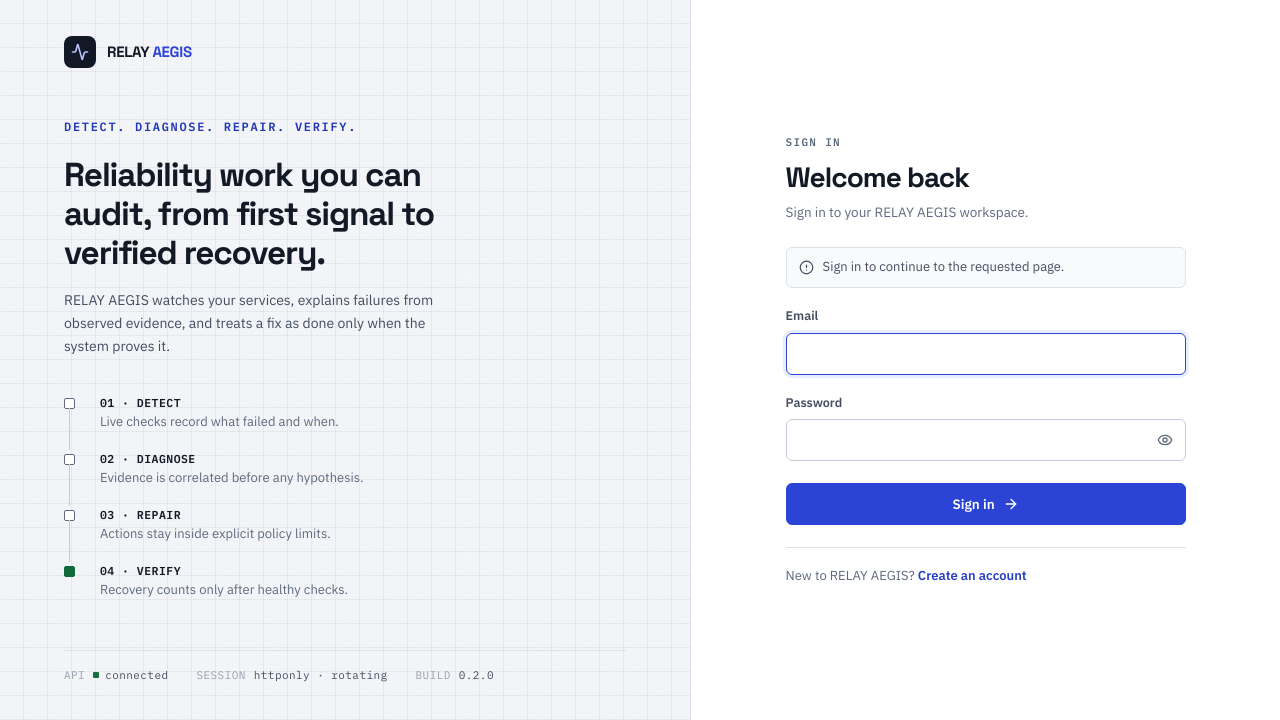
Test: authentication flow › redirects an anonymous visitor to login and returns them to the requested page after signing in
The width and height of the screenshot is (1280, 720).
Expected: the heading "Welcome back" is shown, [786,159,969,195]
Expected: the text "Sign in to continue to the requested page." is shown, [823,258,1064,277]
Type "ada@relay.test" into the field labelled "Email" at (986,354), box [786,333,1186,375]
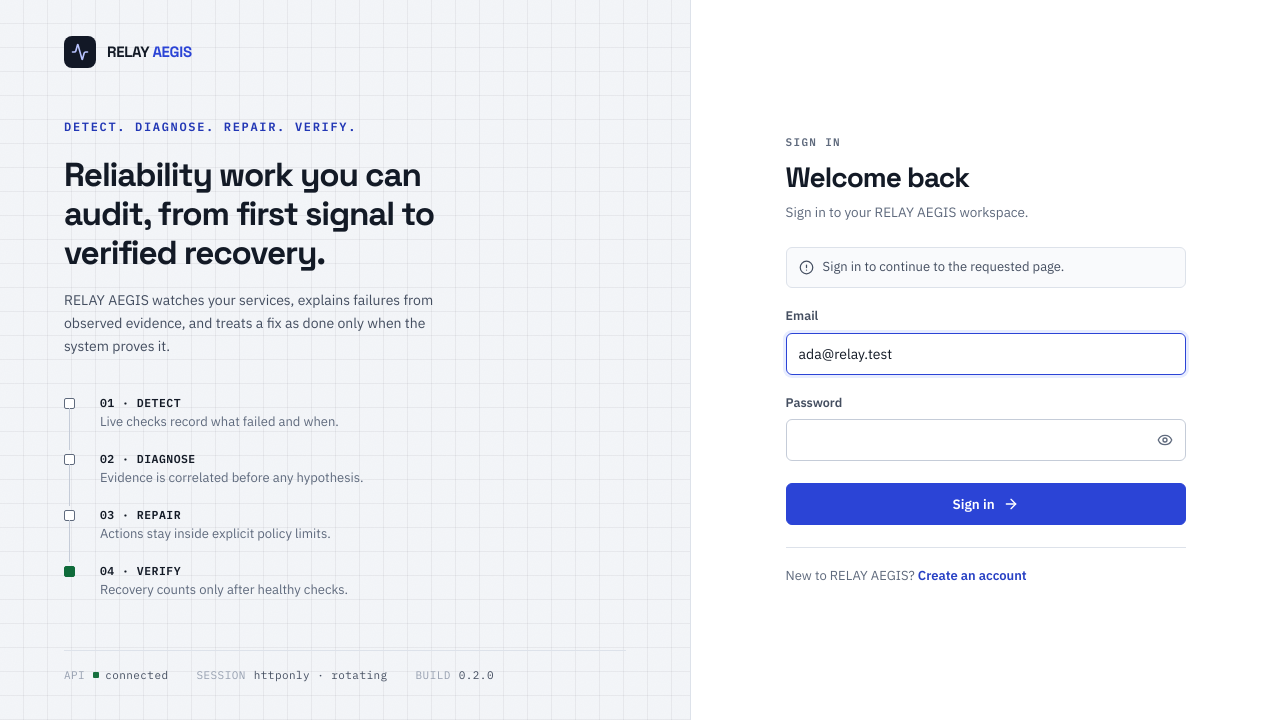
Type "Correct-Horse-42" into the password field labelled "Password" at (986,440), box [786,419,1186,461]
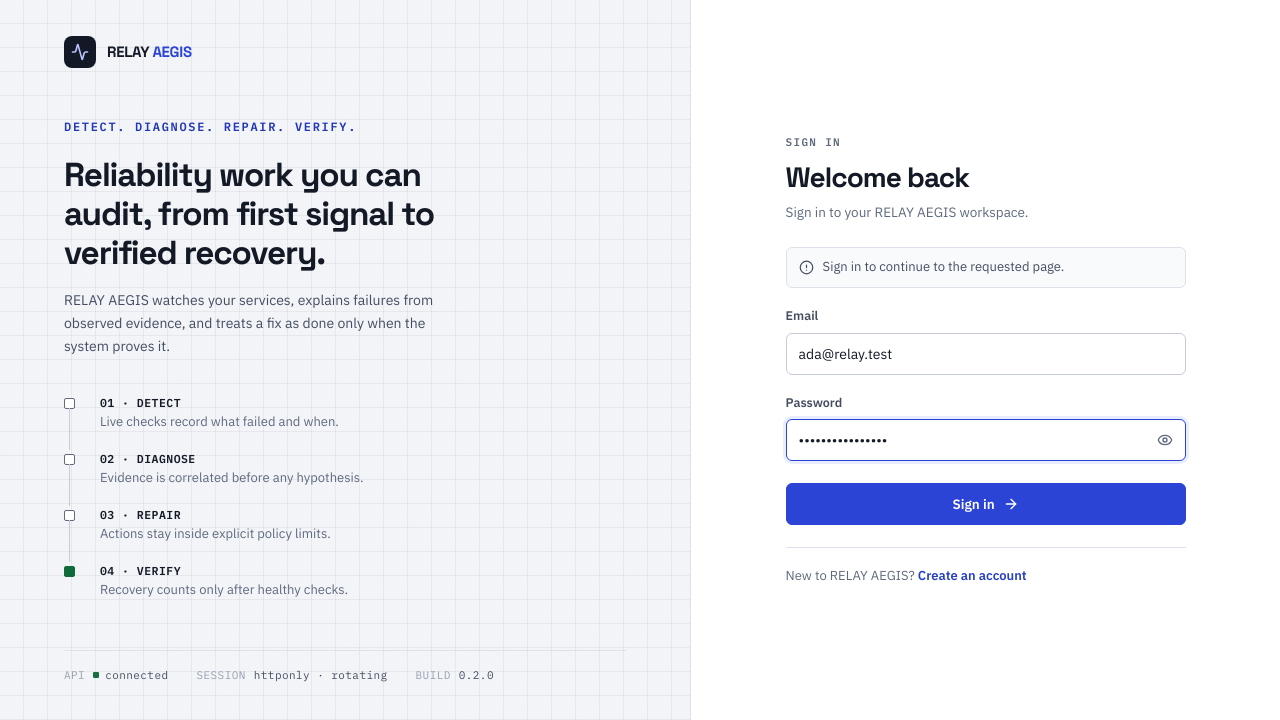
Click the button "Sign in" at (986,504), box [786,483,1186,525]
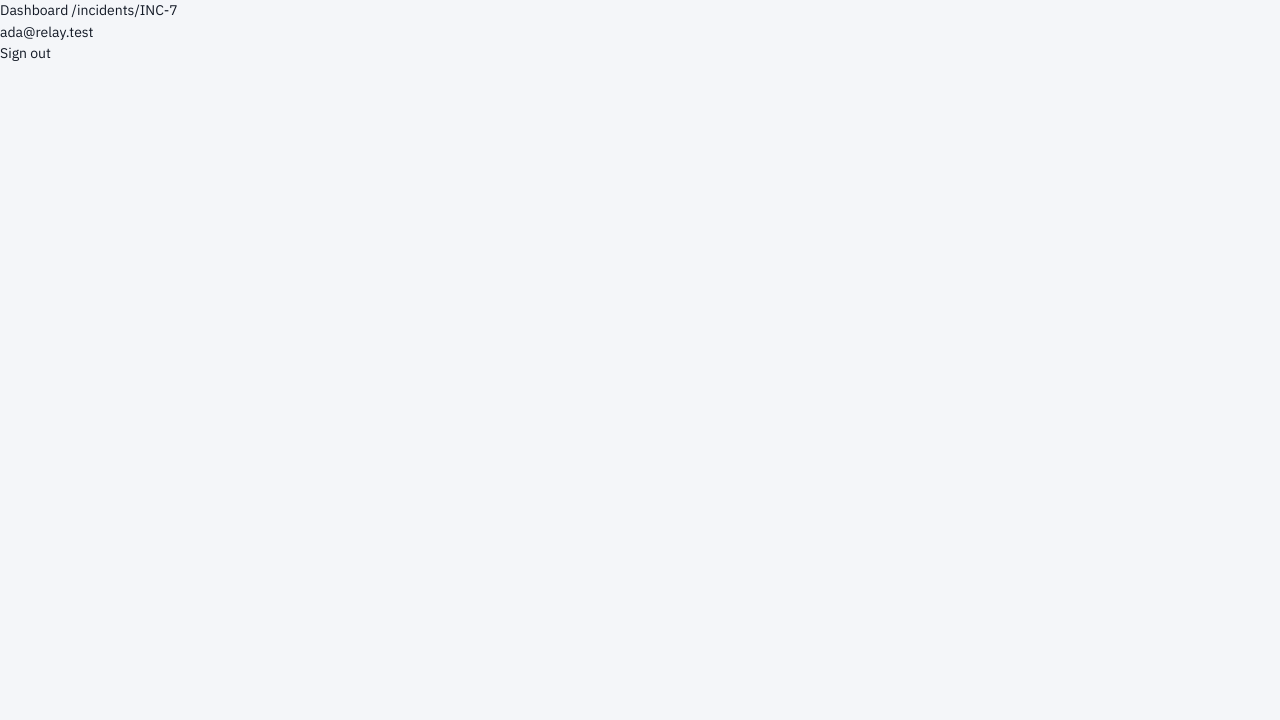
Expected: the heading "Dashboard /incidents/INC-7" is shown, [0,1,178,19]
